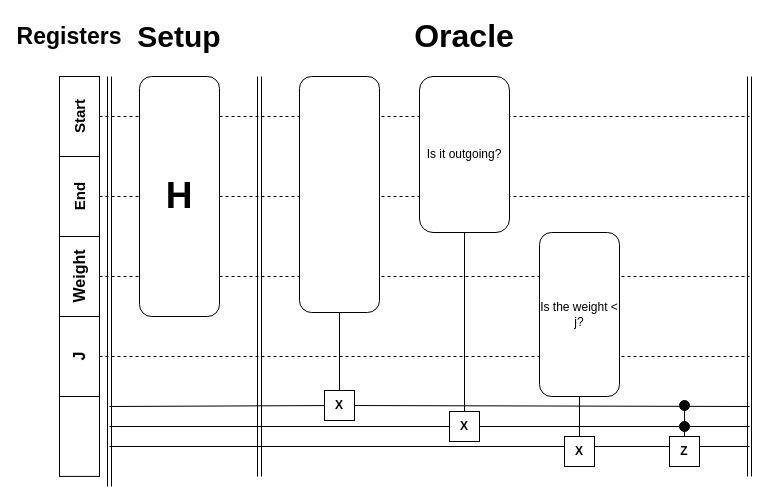
Image size: 769x504. Some labels were removed from this diagram. Each missing label, with the centre of its shape:
"Flags" goes at (x=79, y=435).
"Graph Membership" goes at (x=339, y=194).
